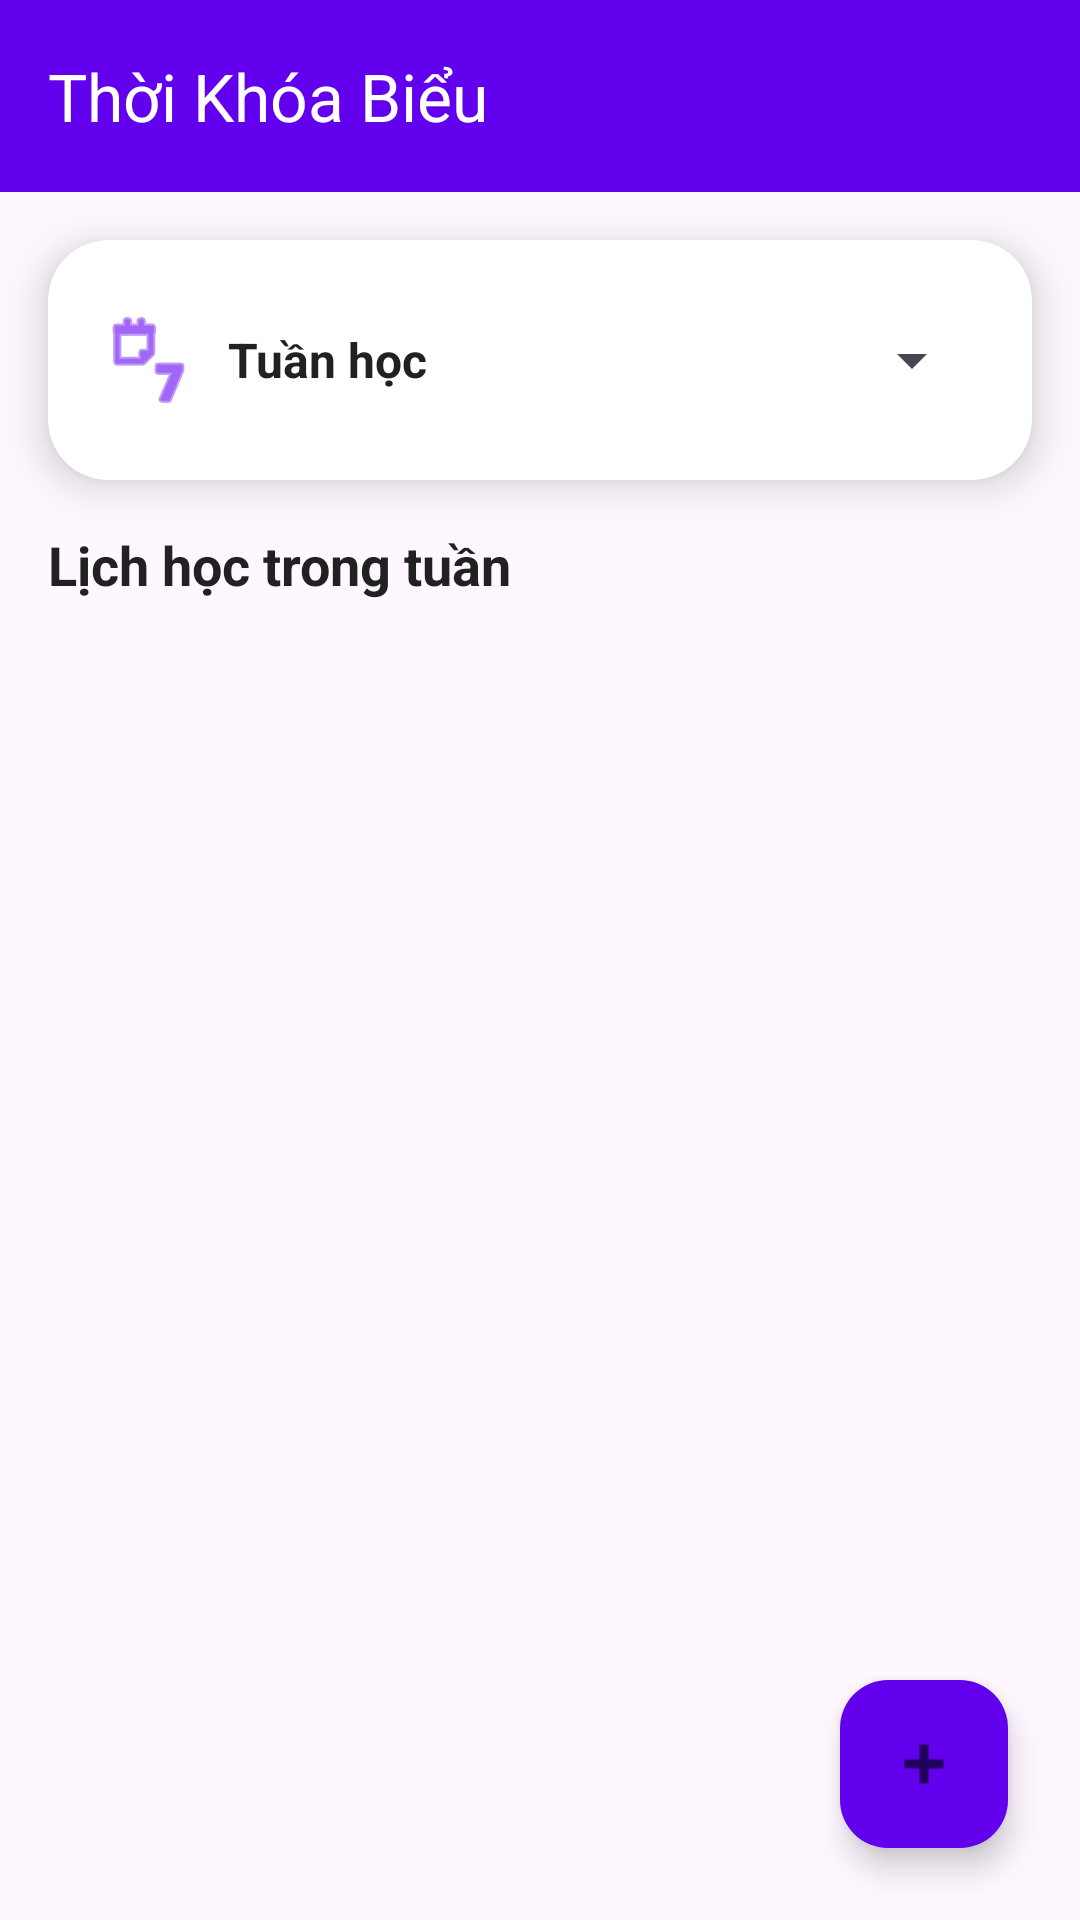

Icons on this 1080px x 1920px Android screen, each with its box as (left=x1, top=y1, right=x2, bottom=y2):
add: (left=840, top=1680, right=1008, bottom=1848)
week: (left=112, top=317, right=185, bottom=403)
